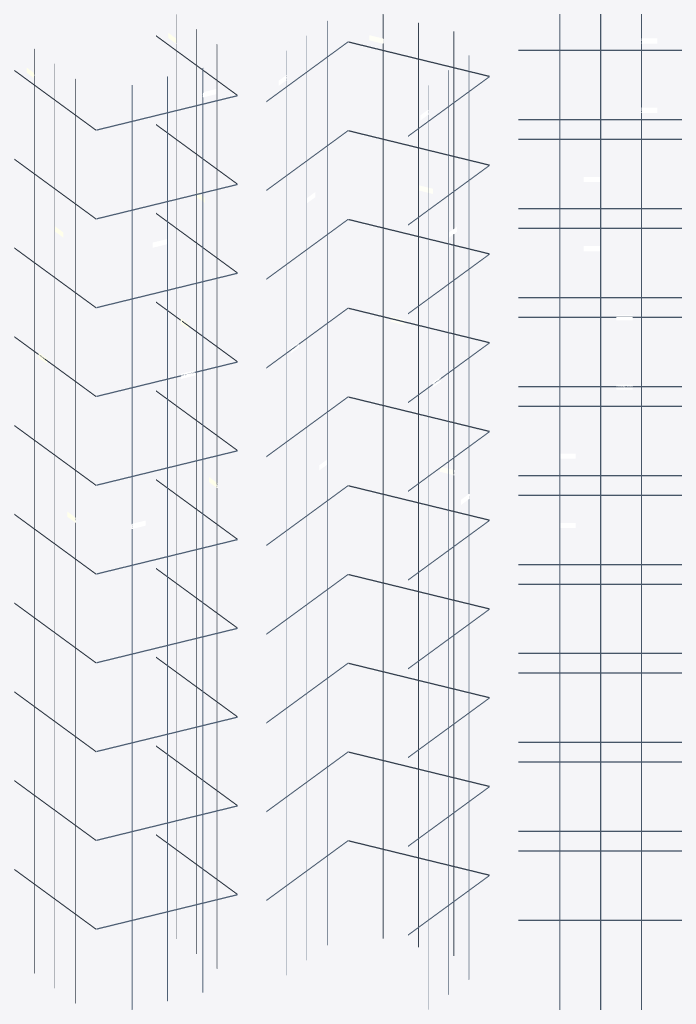
Rendered from SM_MM_N02_Facade.fbx.
3 views of the same model, side by side, from view 1: azimuth 30°, elevation 25°; view 2: azimuth 150°, elevation 25°; view 3: azimuth 270°, elevation 25° (orthographic).
Parts seen in each view (by area): view 1: SM_MM_N02_Facade; view 2: SM_MM_N02_Facade; view 3: SM_MM_N02_Facade.
Part boxes in pixels (x1=…): SM_MM_N02_Facade: x1=14, y1=14, x2=237, y2=1009; SM_MM_N02_Facade: x1=266, y1=14, x2=489, y2=1009; SM_MM_N02_Facade: x1=518, y1=14, x2=681, y2=1009.
Bounding box in the file's own units: 20.05 × 20.03 × 125.
